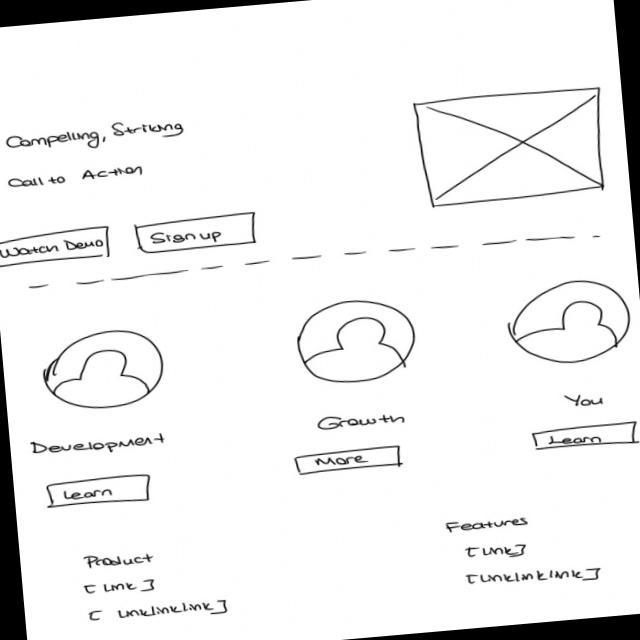button: (130, 210, 258, 256), (0, 223, 113, 268), (42, 471, 154, 509), (528, 418, 640, 453), (292, 443, 402, 477)
image: (411, 82, 611, 210), (501, 274, 635, 371), (292, 293, 420, 388), (38, 324, 168, 414)
label: (3, 116, 185, 156), (29, 429, 168, 461), (6, 164, 144, 188), (313, 408, 408, 434), (444, 512, 532, 535), (83, 548, 156, 572), (561, 390, 607, 410)
link: (86, 596, 230, 626), (464, 562, 602, 592), (82, 577, 158, 598), (462, 540, 529, 562)
